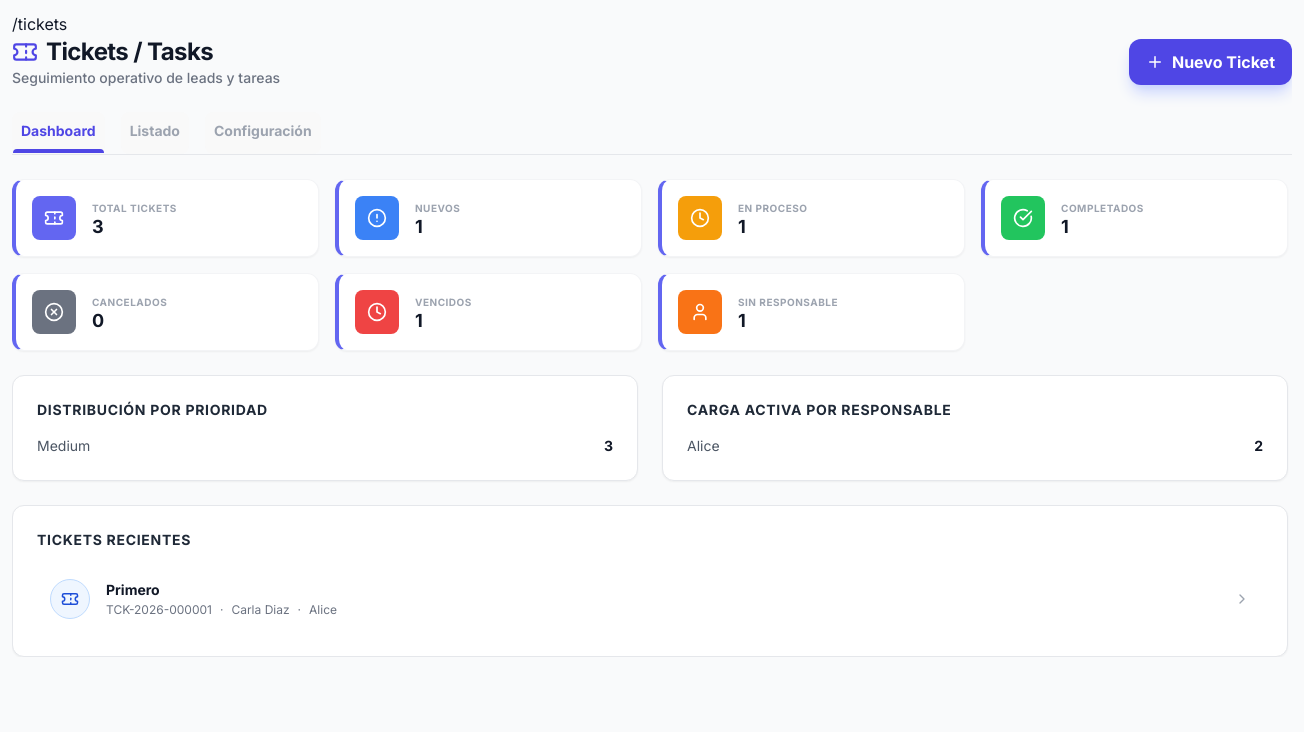
Test: Tickets — list › renders each row's own category
This screenshot has width=1304, height=732.
Click the button "Listado". click: (155, 133)
box: x1=121 y1=112 x2=189 y2=154
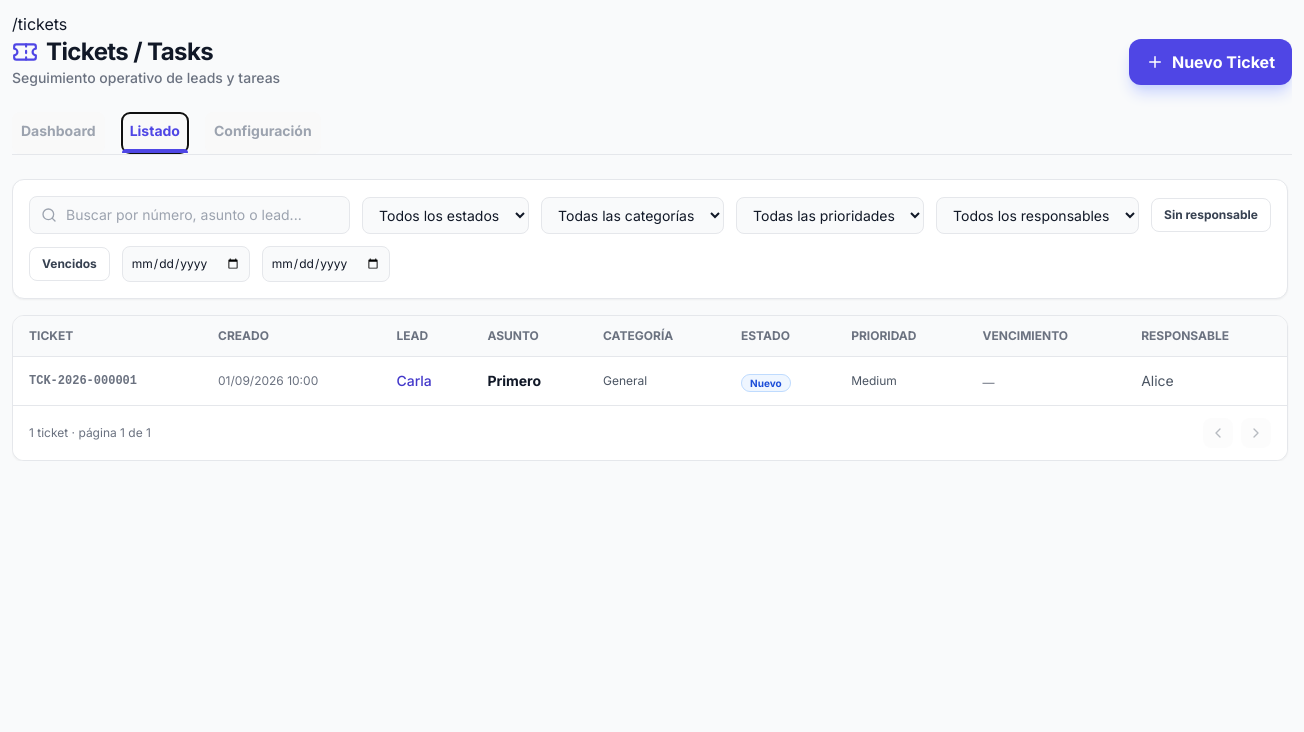
Check: the text "General" is shown, box x1=587 y1=357 x2=725 y2=405
